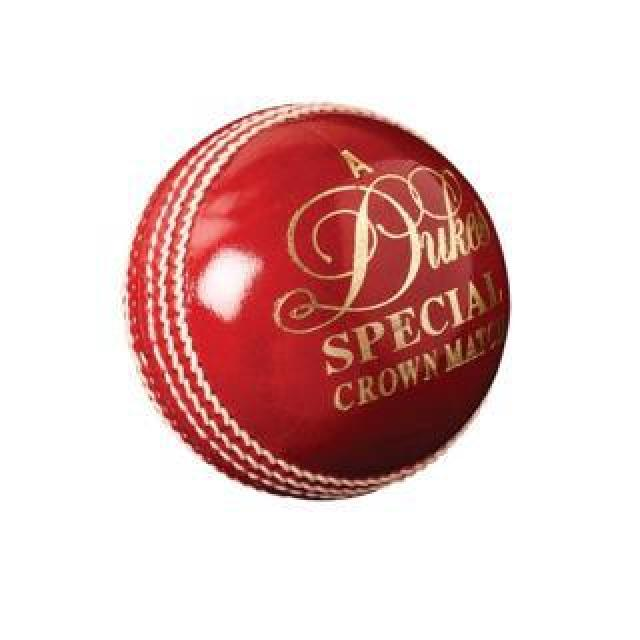ball: (126, 104, 510, 502)
